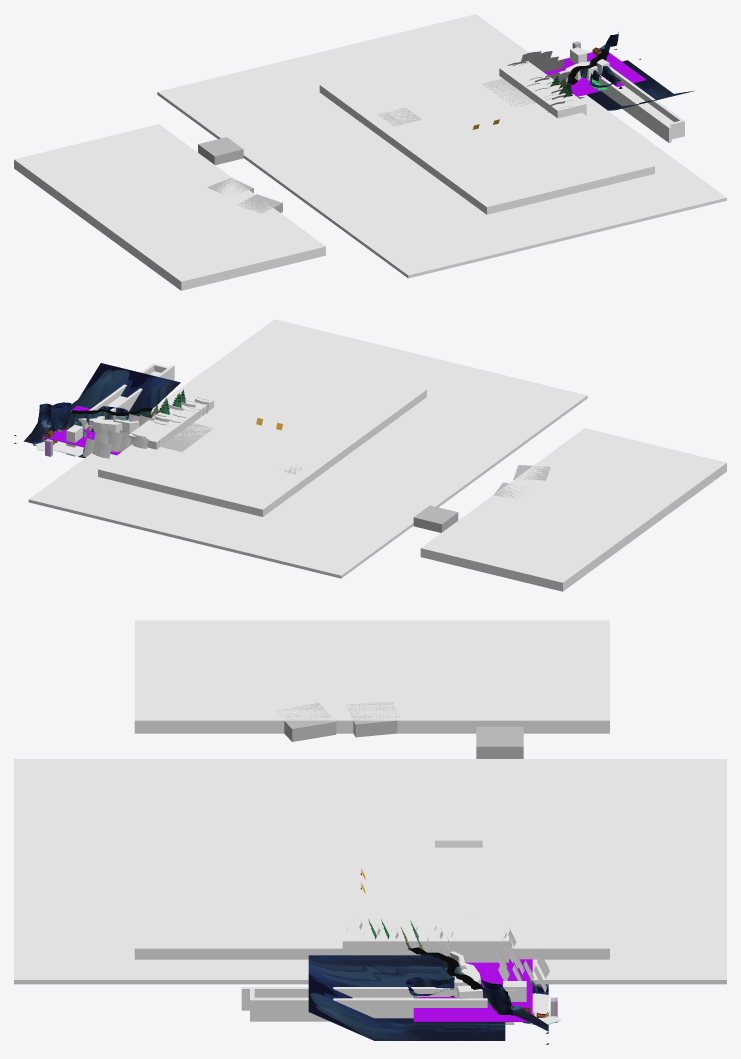
The picture shows the model from 3 angles, top to bottom: view 1: azimuth 30°, elevation 25°; view 2: azimuth 150°, elevation 25°; view 3: azimuth 270°, elevation 25°; orthographic projection. The views are drawn at different scales.
Parts seen in each view (by area): view 1: Cube, DoorWay_NavMask (1) (×3), DoorWay_NavMask (2), Game_Camera_Limit01, MapArea_02_001_room (×2), Cube (2), NavGrid_CheckArea, DoorWay_NavBox (×2), DoorWay_NavBox (3), Cube (1), MapArea_02_middle_001_tree02, DoorWay_NavBox (1) (+1 smaller); view 2: Cube, DoorWay_NavMask (1) (×3), DoorWay_NavMask (2), MapArea_02_001_room, Game_Camera_Limit01, MapArea_02_001, MapArea_02_middle_001_tree02, DoorWay_NavBox (3), DoorWay_NavBox, MapArea_02_001_tree01, NavGrid_CheckArea, Cube (2); view 3: Cube, DoorWay_NavMask (1) (×3), DoorWay_NavMask (2), MapArea_02_001_room (×2), Game_Camera_Limit01, Cube (1), NavGrid_CheckArea, Cube (2), DoorWay_NavBox (3), DoorWay_NavBox (1), DoorWay_NavBox (2), MapArea_02_001 (+1 smaller).
Part boxes in pixels (x1,y1,x2,y2): Cube: [157, 14, 726, 278]; DoorWay_NavMask (1) (×3): [319, 44, 654, 214]; DoorWay_NavMask (2): [14, 124, 325, 290]; Game_Camera_Limit01: [499, 61, 586, 118]; MapArea_02_001_room (×2): [586, 60, 693, 110]; Cube (2): [598, 74, 671, 142]; NavGrid_CheckArea: [544, 52, 646, 96]; DoorWay_NavBox (×2): [377, 79, 535, 126]; DoorWay_NavBox (3): [198, 137, 243, 165]; Cube (1): [609, 66, 684, 136]; MapArea_02_middle_001_tree02: [500, 55, 573, 112]; DoorWay_NavBox (1): [238, 194, 282, 213]; Cube: [28, 319, 587, 578]; DoorWay_NavMask (1) (×3): [98, 349, 426, 516]; DoorWay_NavMask (2): [420, 428, 726, 591]; MapArea_02_001_room: [71, 363, 180, 412]; Game_Camera_Limit01: [128, 393, 213, 449]; MapArea_02_001: [14, 402, 151, 452]; MapArea_02_middle_001_tree02: [108, 397, 209, 452]; DoorWay_NavBox (3): [413, 505, 458, 532]; DoorWay_NavBox: [160, 423, 213, 451]; MapArea_02_001_tree01: [83, 428, 120, 458]; NavGrid_CheckArea: [42, 405, 120, 455]; Cube (2): [89, 365, 174, 430]; Cube: [14, 759, 726, 984]; DoorWay_NavMask (1) (×3): [134, 832, 609, 959]; DoorWay_NavMask (2): [134, 620, 609, 733]; MapArea_02_001_room (×2): [308, 955, 505, 1040]; Game_Camera_Limit01: [342, 921, 508, 962]; Cube (1): [250, 998, 487, 1021]; NavGrid_CheckArea: [413, 959, 532, 1021]; Cube (2): [241, 987, 454, 1010]; DoorWay_NavBox (3): [476, 726, 523, 758]; DoorWay_NavBox (1): [275, 703, 336, 741]; DoorWay_NavBox (2): [346, 701, 399, 737]; MapArea_02_001: [420, 954, 548, 1044].
Size of what is drawn, in the model's own units: 201 by 14.36 by 150.
